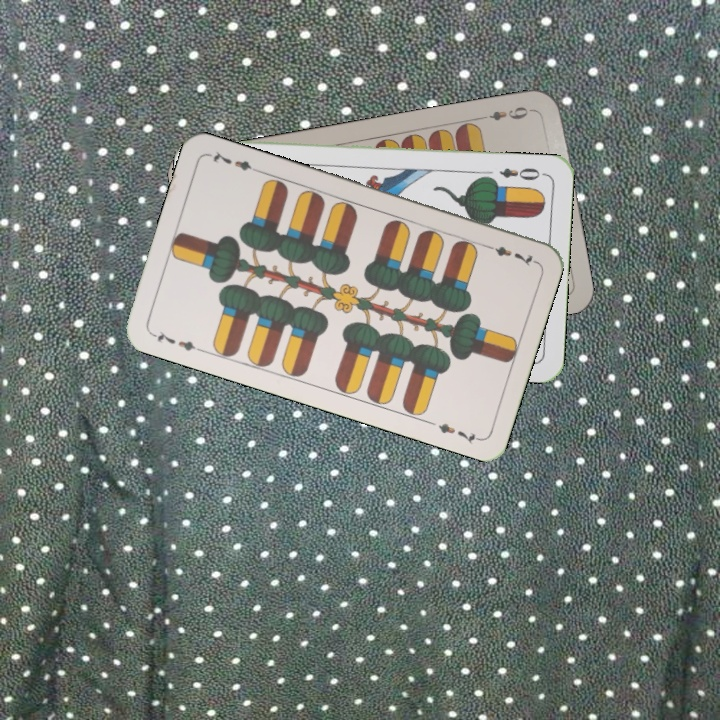E7: (480, 240, 538, 269), (148, 328, 205, 355)
E9: (477, 102, 536, 124)
EO: (495, 163, 548, 183)
